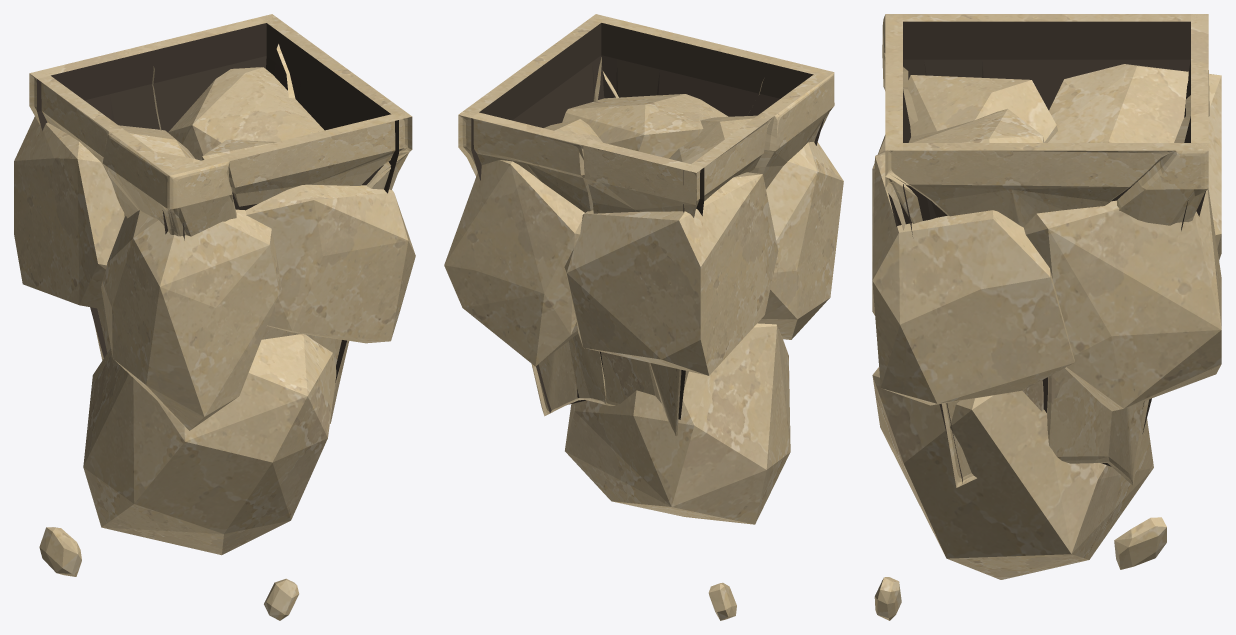
File: ground_bottom_island_08.glb
3 renders of one model, left to right at view 1: azimuth 30°, elevation 25°; view 2: azimuth 150°, elevation 25°; view 3: azimuth 270°, elevation 25°, orthographic. The views are drawn at different scales.
Visible parts, largest first — view 1: GroundBottomIsland08_Body; view 2: GroundBottomIsland08_Body; view 3: GroundBottomIsland08_Body.
Boxes of the visible parts, left/top/right/bottom form: GroundBottomIsland08_Body: left=14, top=14, right=415, bottom=620; GroundBottomIsland08_Body: left=444, top=14, right=843, bottom=620; GroundBottomIsland08_Body: left=872, top=14, right=1221, bottom=620.
Size of the model in its own units: 1.08 by 1.88 by 1.08.
16 materials, 15 textured.
